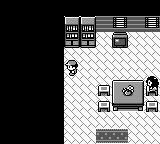leer: (112, 33, 128, 48)
main: (65, 59, 78, 76)
no-caminable: (0, 0, 159, 143), (65, 15, 96, 48), (112, 80, 144, 111), (97, 16, 160, 31)
npc: (146, 76, 159, 93)
puerta: (92, 127, 131, 144)
